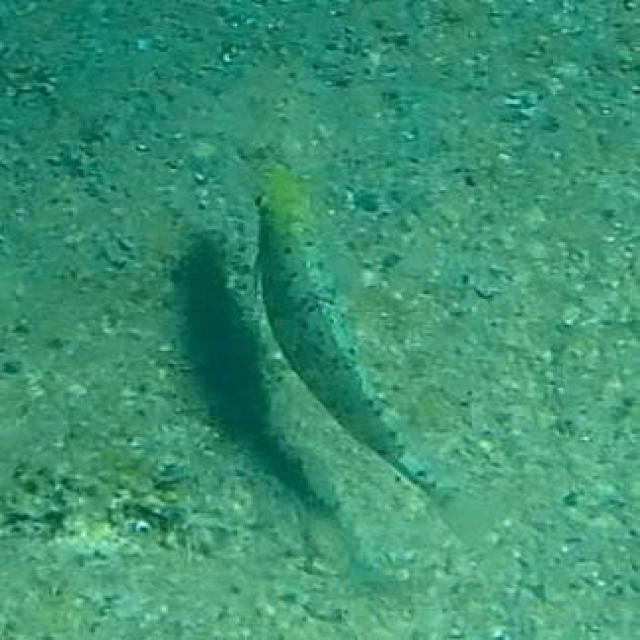Sokar Baligi: (245, 143, 522, 575)
